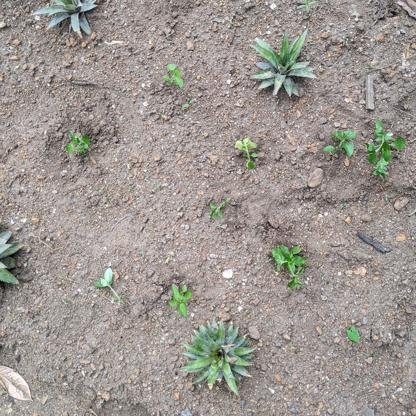pineapple: (177, 319, 260, 394), (248, 29, 321, 100), (30, 1, 107, 40), (1, 229, 27, 293)
weed: (321, 121, 409, 186), (268, 242, 309, 296), (94, 264, 130, 312), (230, 135, 266, 172), (62, 128, 97, 161), (164, 272, 194, 309), (159, 62, 189, 92), (203, 195, 234, 222)
